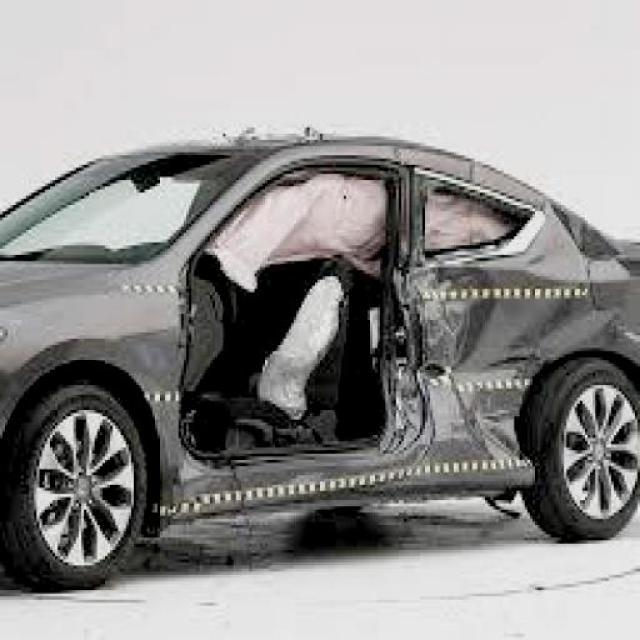car damage: (145, 170, 617, 525)
